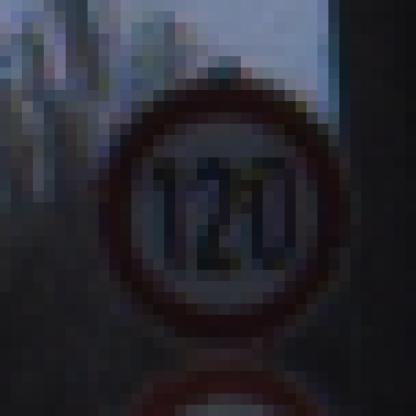Speed Limit 120: (110, 80, 340, 346)
